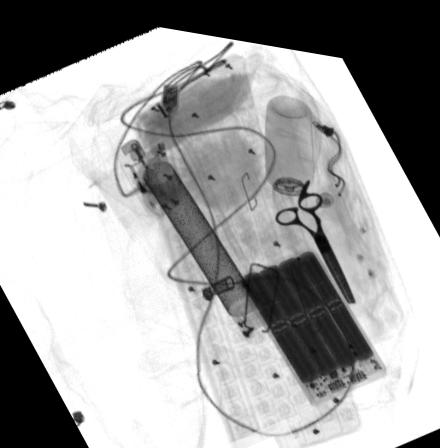Lighter: (116, 131, 171, 203)
Powerbank: (238, 235, 389, 398)
Scissors: (274, 168, 355, 293)
Sprayer: (264, 84, 316, 202)
